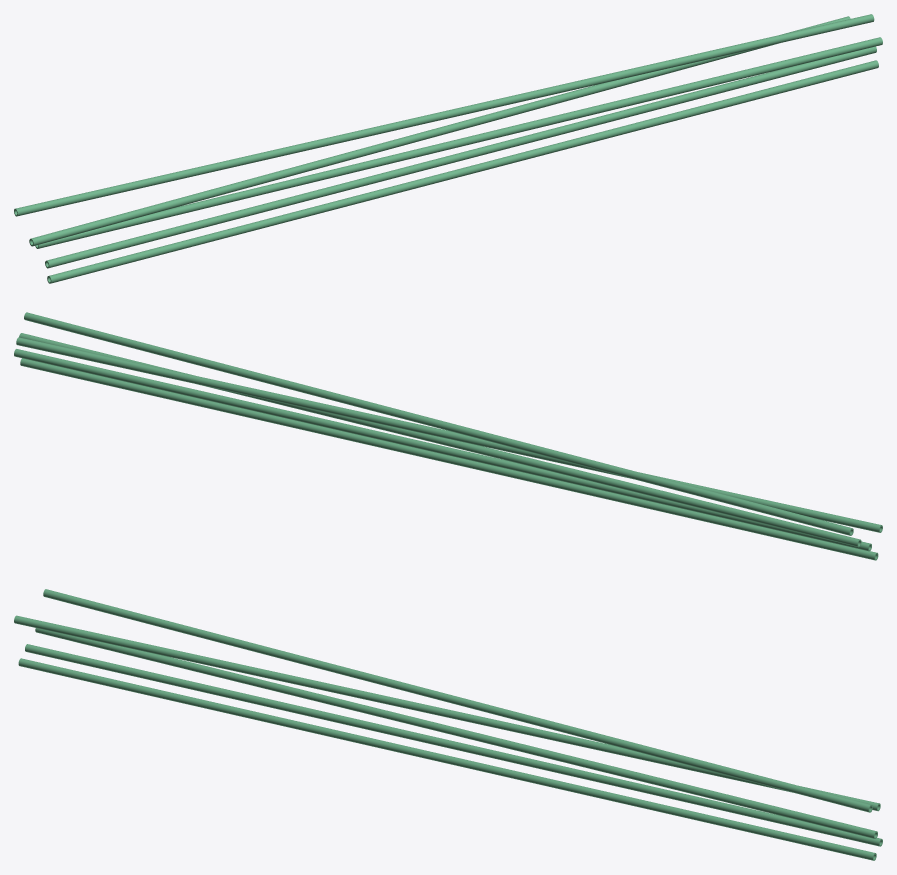
The model's file is HID-AGF-005_anim.glb.
The picture shows the model from 3 angles, top to bottom: view 1: azimuth 30°, elevation 25°; view 2: azimuth 150°, elevation 25°; view 3: azimuth 330°, elevation 25°; orthographic projection.
Parts seen in each view (by area): view 1: HID-AGF-005_anim4, HID-AGF-005_anim0, HID-AGF-005_anim1, HID-AGF-005_anim2, HID-AGF-005_anim3; view 2: HID-AGF-005_anim4, HID-AGF-005_anim0, HID-AGF-005_anim1, HID-AGF-005_anim3, HID-AGF-005_anim2; view 3: HID-AGF-005_anim0, HID-AGF-005_anim1, HID-AGF-005_anim4, HID-AGF-005_anim2, HID-AGF-005_anim3.
Part boxes in pixels (x1,y1,x2,y2): HID-AGF-005_anim4: (14, 14, 874, 216); HID-AGF-005_anim0: (47, 60, 878, 283); HID-AGF-005_anim1: (45, 46, 876, 268); HID-AGF-005_anim2: (35, 37, 882, 248); HID-AGF-005_anim3: (29, 16, 850, 246); HID-AGF-005_anim4: (24, 312, 853, 535); HID-AGF-005_anim0: (20, 358, 878, 560); HID-AGF-005_anim1: (14, 349, 871, 551); HID-AGF-005_anim3: (16, 337, 882, 532); HID-AGF-005_anim2: (19, 333, 861, 547); HID-AGF-005_anim0: (18, 658, 876, 860); HID-AGF-005_anim1: (25, 644, 882, 846); HID-AGF-005_anim4: (43, 589, 872, 812); HID-AGF-005_anim2: (35, 628, 877, 838); HID-AGF-005_anim3: (14, 615, 880, 811).
Size of the model in its own units: 3.05 by 0.1851 by 0.2099.
